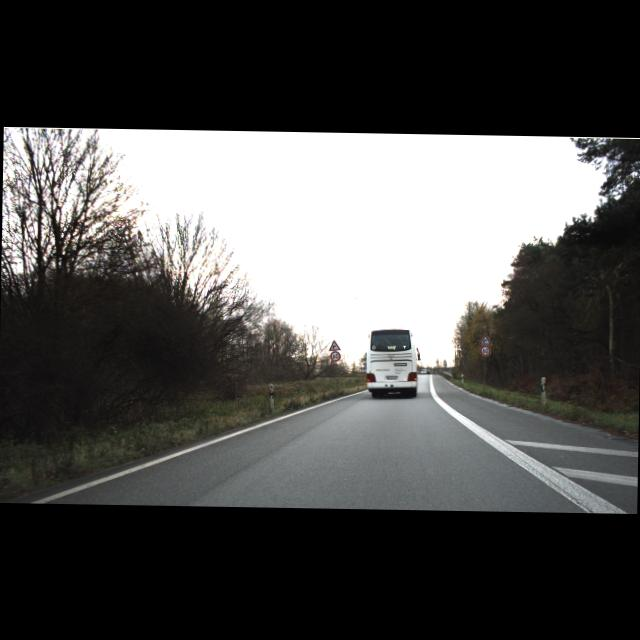danger: (478, 332, 491, 344), (328, 338, 340, 349)
prohibitory: (478, 346, 491, 356), (329, 350, 340, 360)
